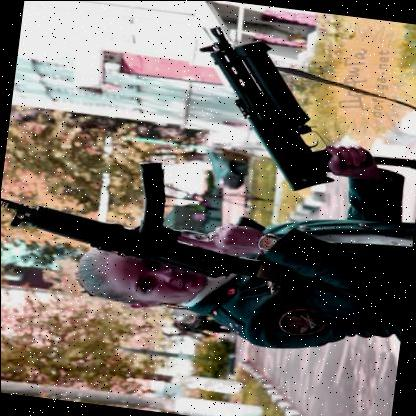rifle: (0, 147, 324, 297), (177, 17, 390, 203)
